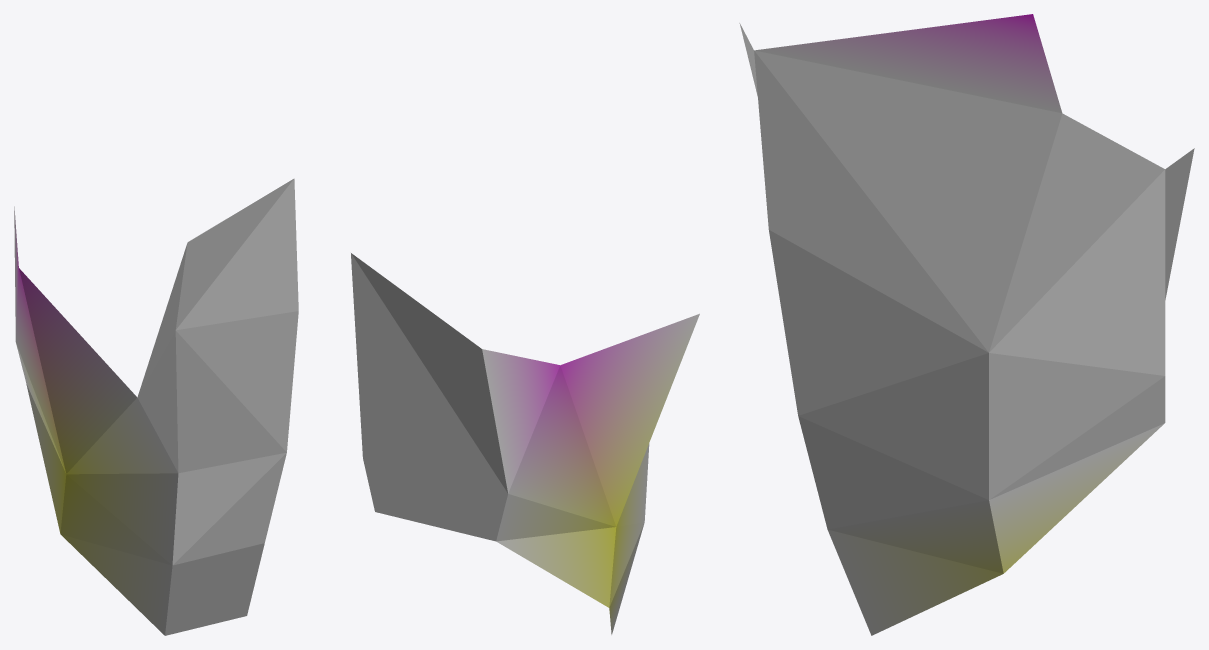
The picture shows the model from 3 angles, left to right: view 1: azimuth 30°, elevation 25°; view 2: azimuth 150°, elevation 25°; view 3: azimuth 270°, elevation 25°; orthographic projection. The views are drawn at different scales.
Parts seen in each view (by area): view 1: model_114F; view 2: model_114F; view 3: model_114F.
Boxes of the visible parts, bbox=[...] form: model_114F: bbox=[14, 178, 298, 635]; model_114F: bbox=[351, 253, 699, 634]; model_114F: bbox=[739, 14, 1194, 635].
Bounding box in the file's own units: 21 × 50 × 31.
